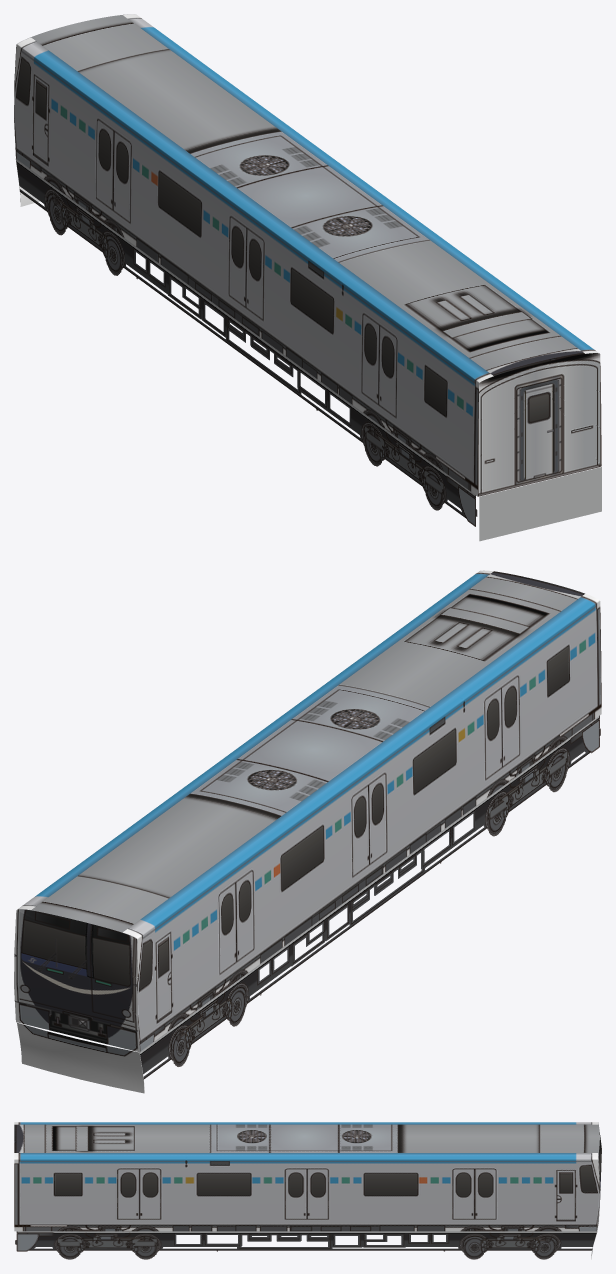
File: car2.glb
3 renders of one model, top to bottom at view 1: azimuth 30°, elevation 25°; view 2: azimuth 150°, elevation 25°; view 3: azimuth 270°, elevation 25°, orthographic. The views are drawn at different scales.
Visible parts, largest first — view 1: car2.glb; view 2: car2.glb; view 3: car2.glb.
Part boxes in pixels (<box>): car2.glb: <box>14,14,601,541</box>; car2.glb: <box>14,570,601,1093</box>; car2.glb: <box>14,1122,601,1259</box>.
Bounding box in the file's own units: 2.49 × 3.14 × 16.26.
Materials: 8 (7 with a texture image).
